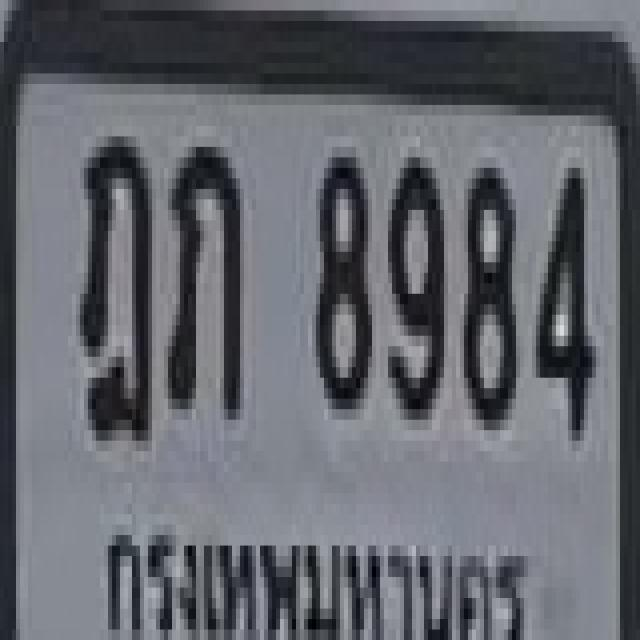4: (536, 168, 592, 441)
8: (315, 155, 371, 407), (464, 168, 516, 431)
9: (387, 156, 443, 419)
A14: (80, 136, 152, 447)
A32: (164, 136, 243, 418)
BKK: (94, 510, 529, 640)
